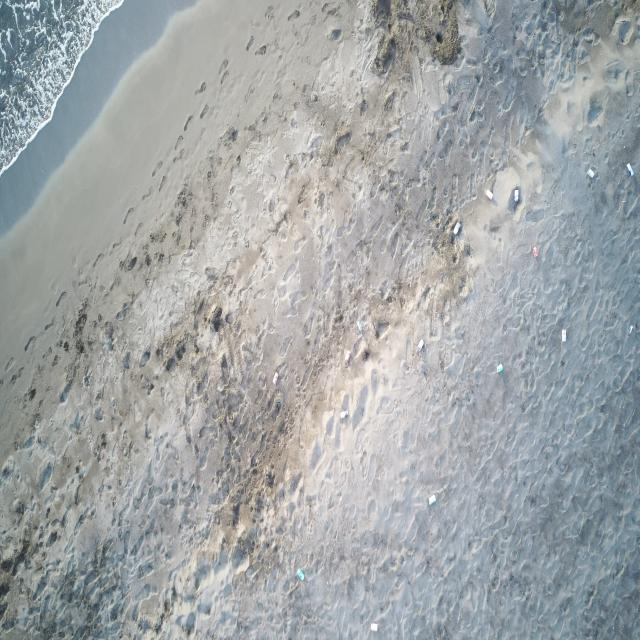Garbage: (507, 187, 520, 209), (512, 188, 519, 203), (416, 339, 424, 352), (453, 221, 460, 235), (344, 350, 351, 364), (484, 188, 492, 200), (296, 567, 303, 580), (356, 320, 364, 331), (560, 328, 566, 342), (427, 493, 435, 503), (272, 372, 278, 384), (340, 409, 347, 419), (532, 246, 539, 256), (587, 167, 593, 178), (627, 163, 632, 176), (496, 363, 503, 372), (369, 623, 376, 631), (627, 324, 632, 332)
